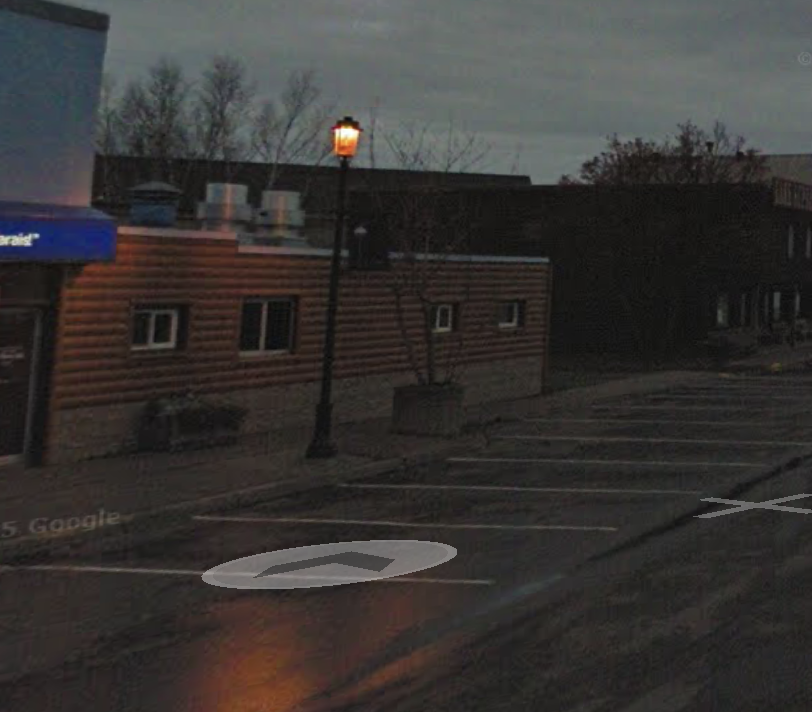HPS: (325, 116, 374, 168)
